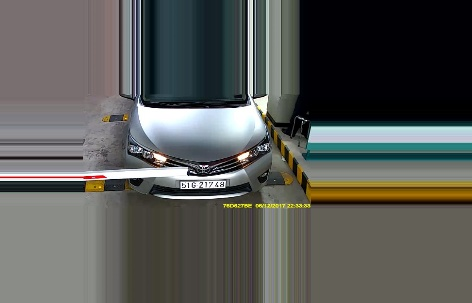plate: (177, 177, 229, 192)
